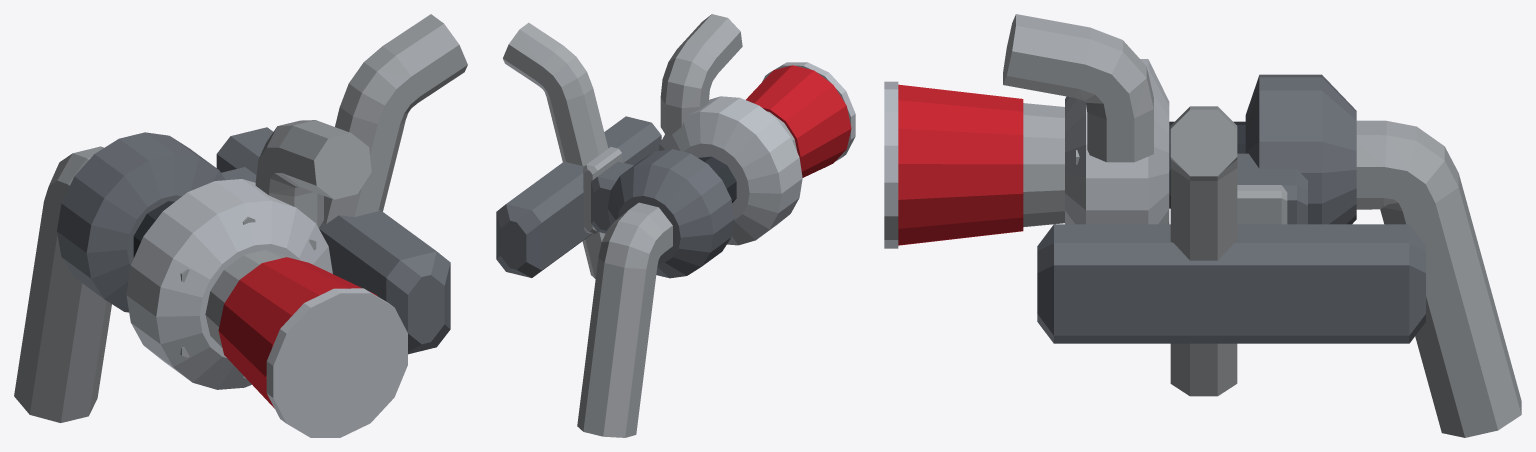
Rendered from ridgeback_4x4.glb.
3 renders of one model, left to right at view 1: azimuth 30°, elevation 25°; view 2: azimuth 150°, elevation 25°; view 3: azimuth 270°, elevation 25°, orthographic. The views are drawn at different scales.
Parts seen in each view (by area): view 1: model; view 2: model; view 3: model.
Part boxes in pixels (x1=…): model: x1=14, y1=14, x2=467, y2=437; model: x1=496, y1=14, x2=855, y2=437; model: x1=884, y1=14, x2=1521, y2=437.
Bounding box in the file's own units: 0.3121 × 0.3525 × 0.4587.
2 materials, 1 textured.
